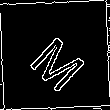M_NE: (21, 21, 89, 89)
